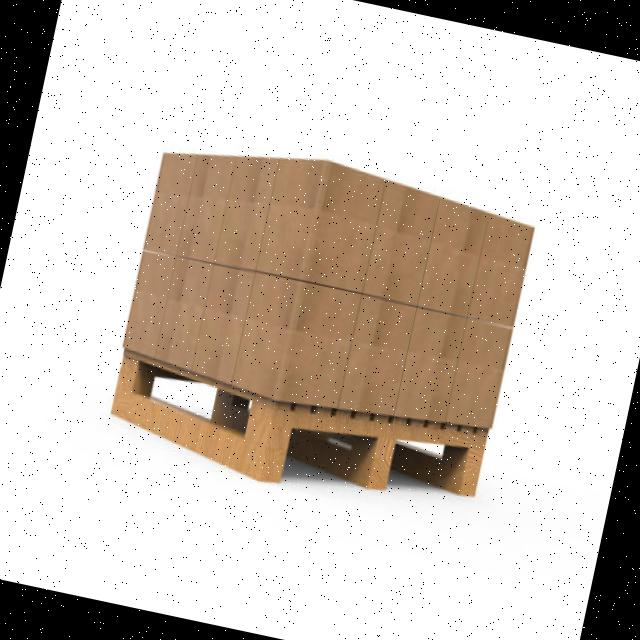Wooden-Pallets: (105, 350, 490, 500)
